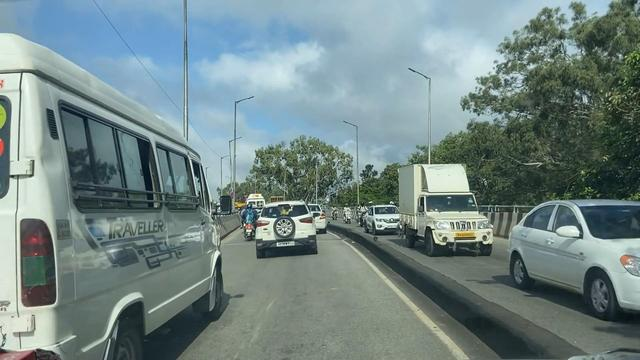HMV: (1, 43, 219, 355)
LMV: (259, 205, 316, 251), (245, 205, 257, 236)
SpeedBump: (314, 235, 349, 243)
